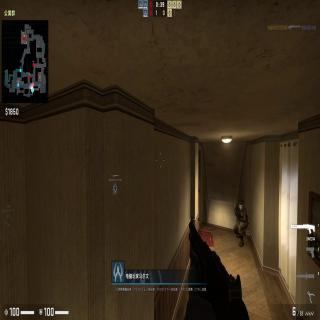T-Body: (233, 198, 248, 248)
T-Head: (237, 200, 244, 210)
